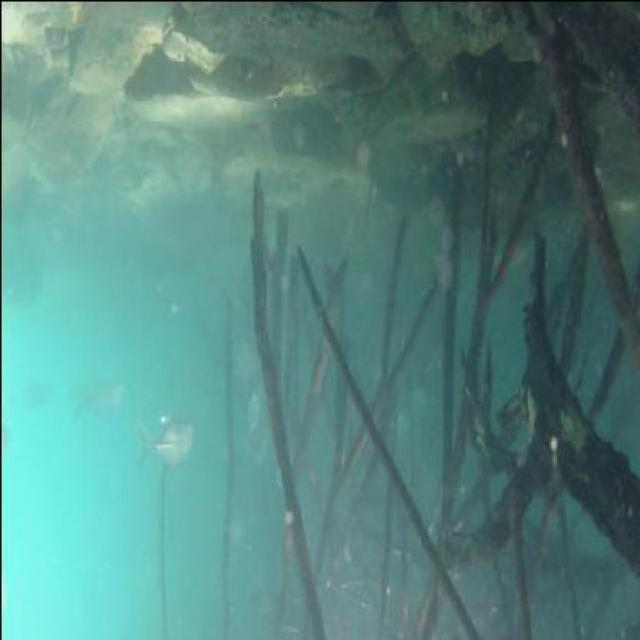Caranx_sexfasciatus_juvenile: (134, 398, 195, 476), (71, 361, 126, 422), (248, 362, 270, 427), (242, 418, 267, 472)
